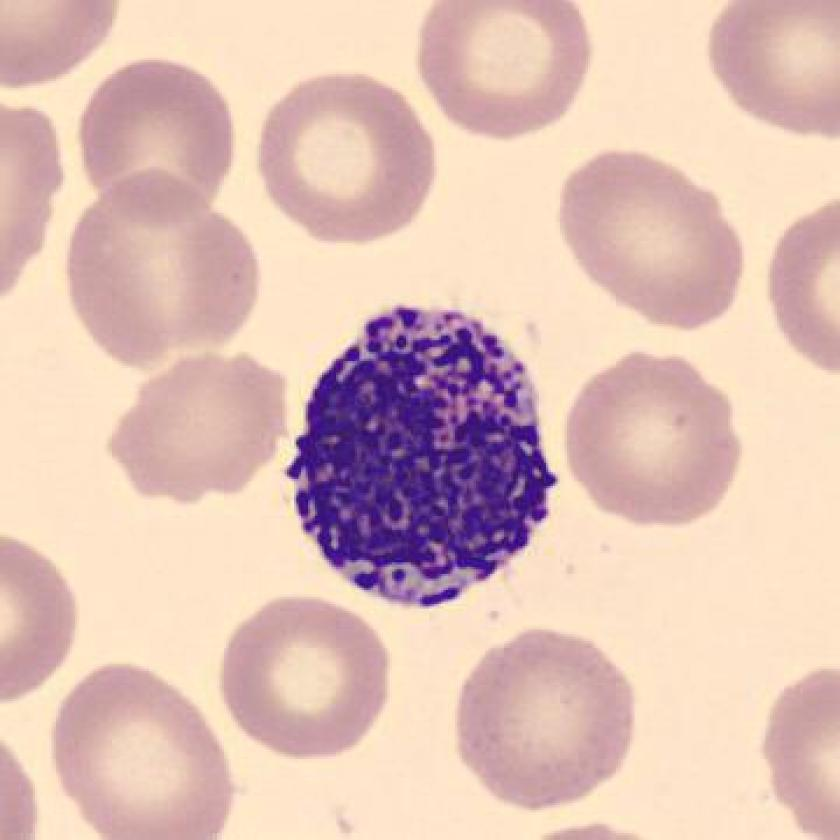basophil: (274, 293, 577, 626)
